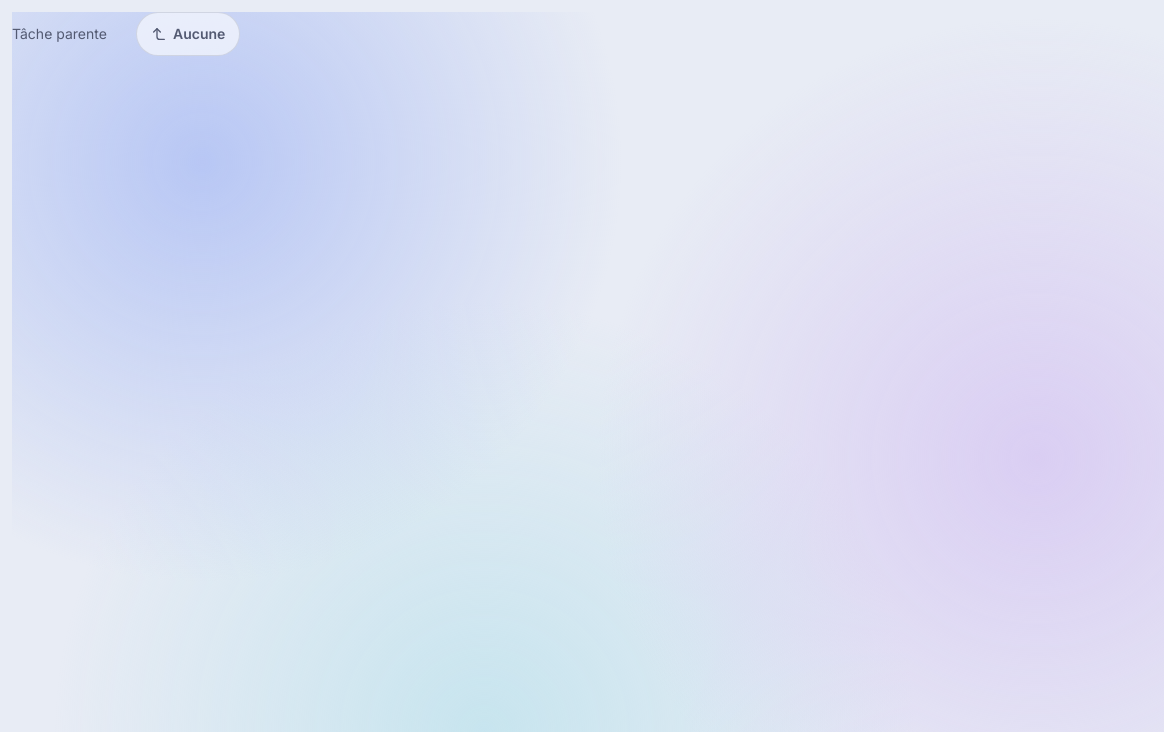
propriété « Tâche parente » › Échap ferme la liste sans écrire et rend le focus au bouton
Click the button with aria-label "Tâche parente : Aucune".
click(188, 34)  # box [136,12,240,56]
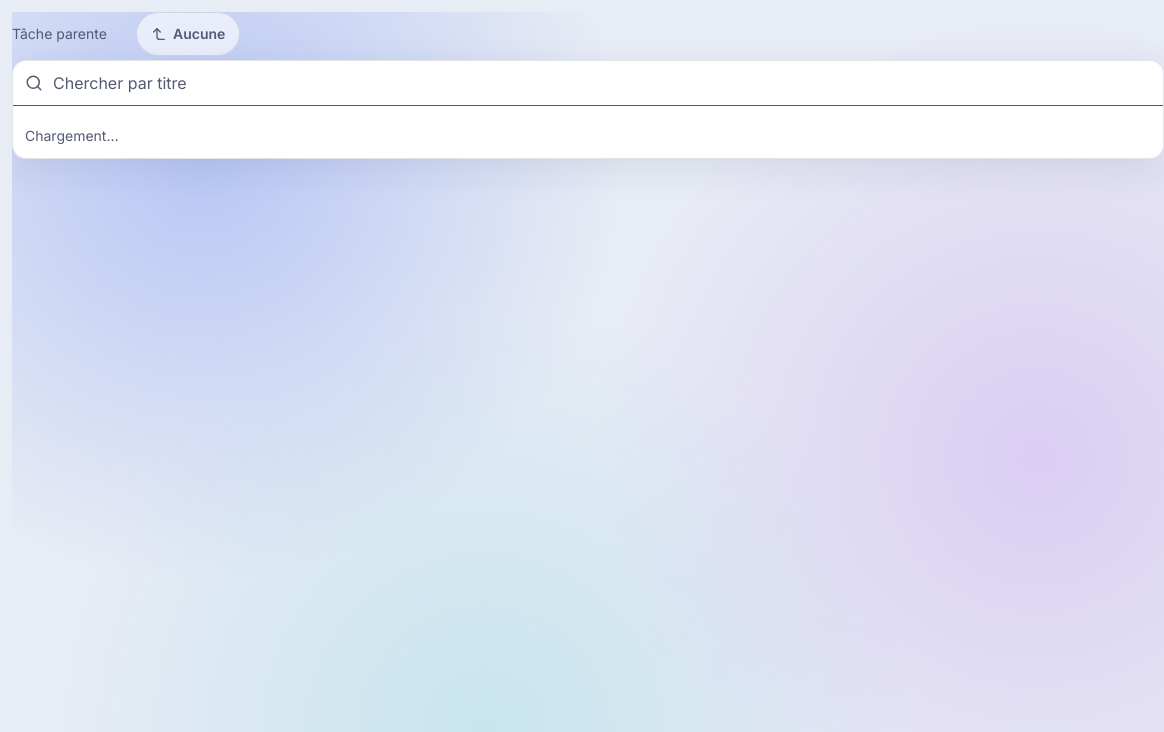
Press Escape in the dropdown named "Chercher une tâche", box [53,61,1151,105]
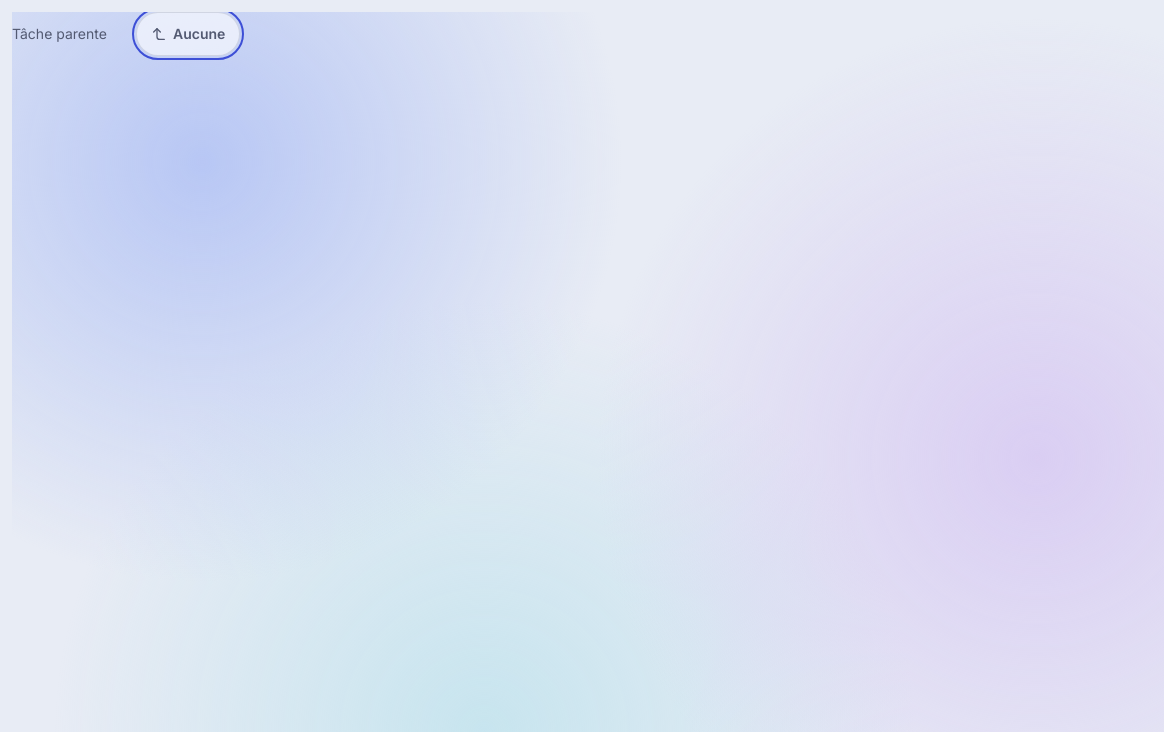
Result: the dropdown is gone
